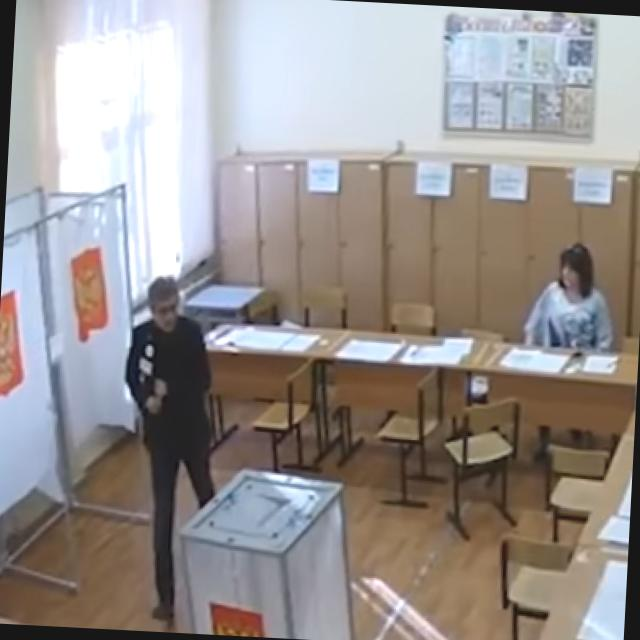person: (110, 272, 231, 626), (518, 241, 618, 467), (523, 239, 618, 352)
